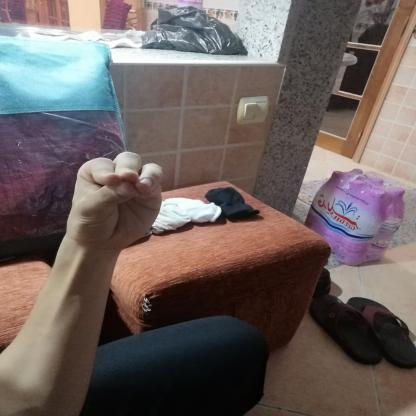HA: (44, 138, 180, 264)
